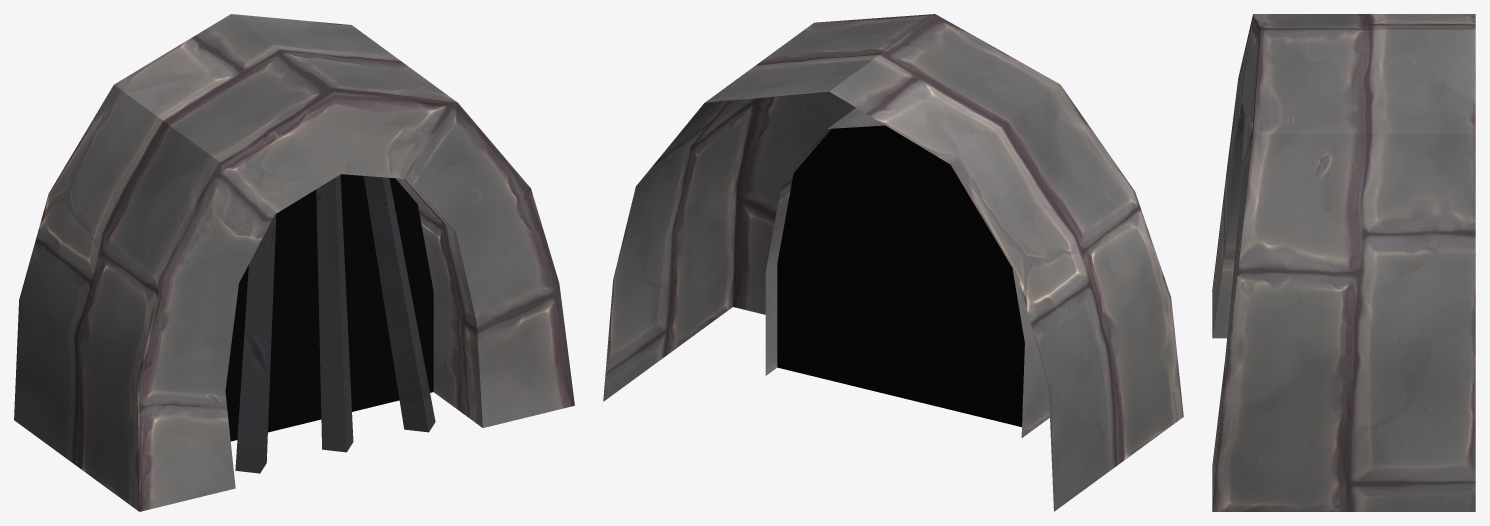
The model's file is SM_BLD_window_v09_01.glb.
The picture shows the model from 3 angles, left to right: view 1: azimuth 30°, elevation 25°; view 2: azimuth 150°, elevation 25°; view 3: azimuth 270°, elevation 25°; orthographic projection. The views are drawn at different scales.
Parts seen in each view (by area): view 1: SM_BLD_window_v09_01_EXPORT; view 2: SM_BLD_window_v09_01_EXPORT; view 3: SM_BLD_window_v09_01_EXPORT.
Boxes of the visible parts, left/top/right/bottom form: SM_BLD_window_v09_01_EXPORT: left=14, top=14, right=574, bottom=511; SM_BLD_window_v09_01_EXPORT: left=603, top=14, right=1183, bottom=511; SM_BLD_window_v09_01_EXPORT: left=1212, top=14, right=1475, bottom=511.
Size of the model in its own units: 1.25 by 0.9701 by 0.6235.
Materials: 3 (3 with a texture image).
